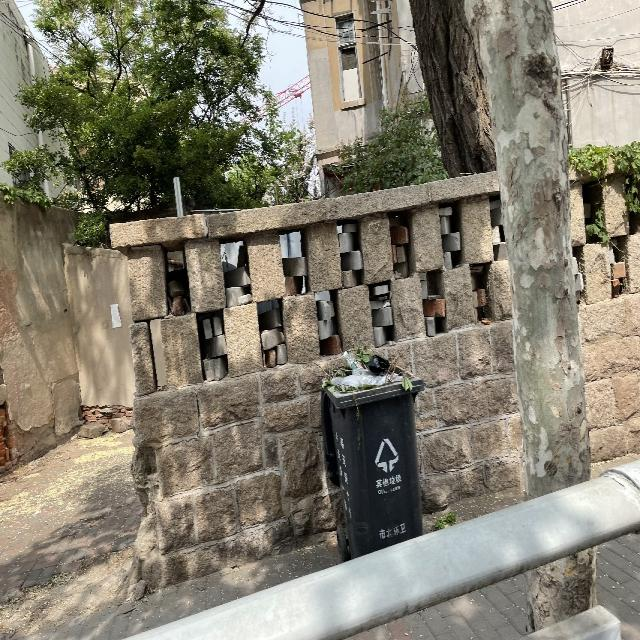overflow: (321, 350, 423, 561)
